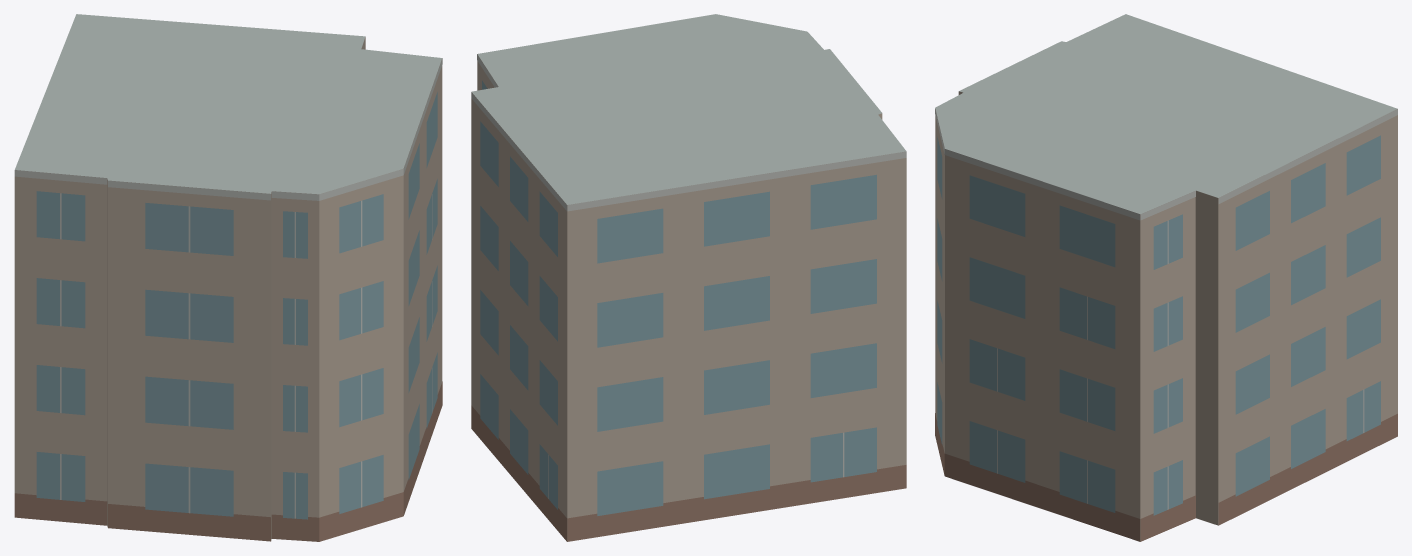
File: survey-upis-32853505.glb
3 views of the same model, side by side, from view 1: azimuth 30°, elevation 25°; view 2: azimuth 150°, elevation 25°; view 3: azimuth 270°, elevation 25° (orthographic). The views are drawn at different scales.
Parts seen in each view (by area): view 1: survey-upis-32853505.tmp; view 2: survey-upis-32853505.tmp; view 3: survey-upis-32853505.tmp.
Boxes of the visible parts, x1,y1,x2,y2 form: survey-upis-32853505.tmp: (14, 14, 442, 541); survey-upis-32853505.tmp: (471, 14, 906, 541); survey-upis-32853505.tmp: (935, 14, 1397, 541).
Bounding box in the file's own units: 16.66 × 12.7 × 16.26.
